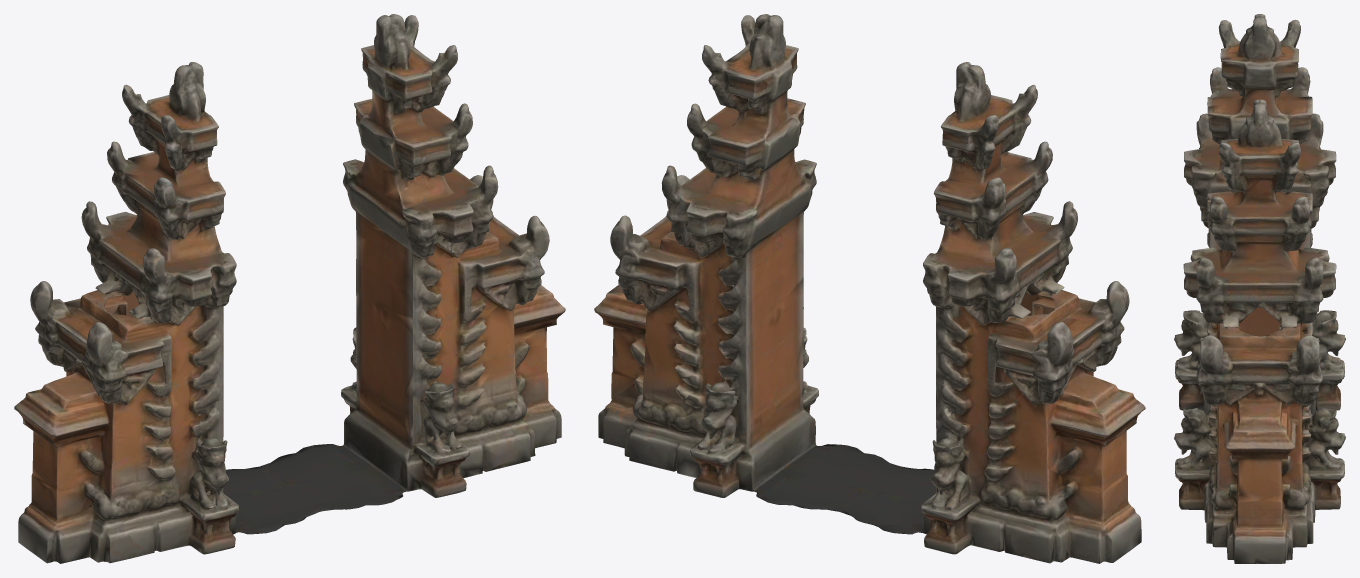
Rendered from candi-bentar.glb.
3 views of the same model, side by side, from view 1: azimuth 30°, elevation 25°; view 2: azimuth 150°, elevation 25°; view 3: azimuth 270°, elevation 25° (orthographic). The views are drawn at different scales.
Bounding box in the file's own units: 1.9 × 1.59 × 0.6254.
Materials: 1 (1 with a texture image).
